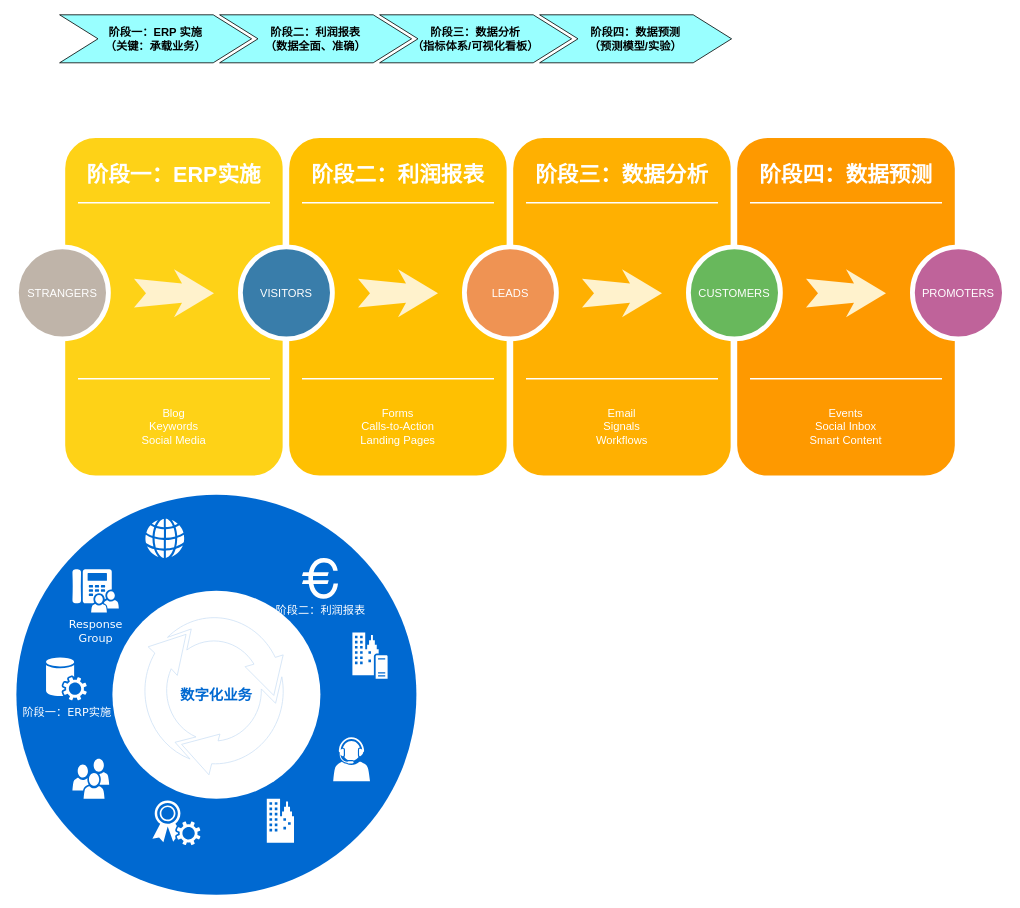
This 1020x908 diagram has some shape labels left out. The shapes that lost their labels are listed below. From the top down, each one's centre as x and y in pixels, then its label:
(x=164, y=538): Global Partnerships
(x=369, y=655): Digital Development
(x=213, y=694): Environmental Awareness
(x=90, y=778): Community
(x=351, y=759): Customer Service
(x=176, y=822): Technology Certificates
(x=280, y=820): Infrastructure
